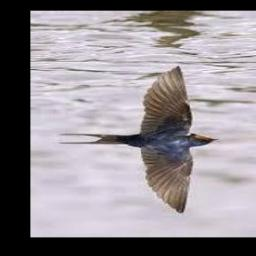Swallow: (56, 66, 217, 213)
